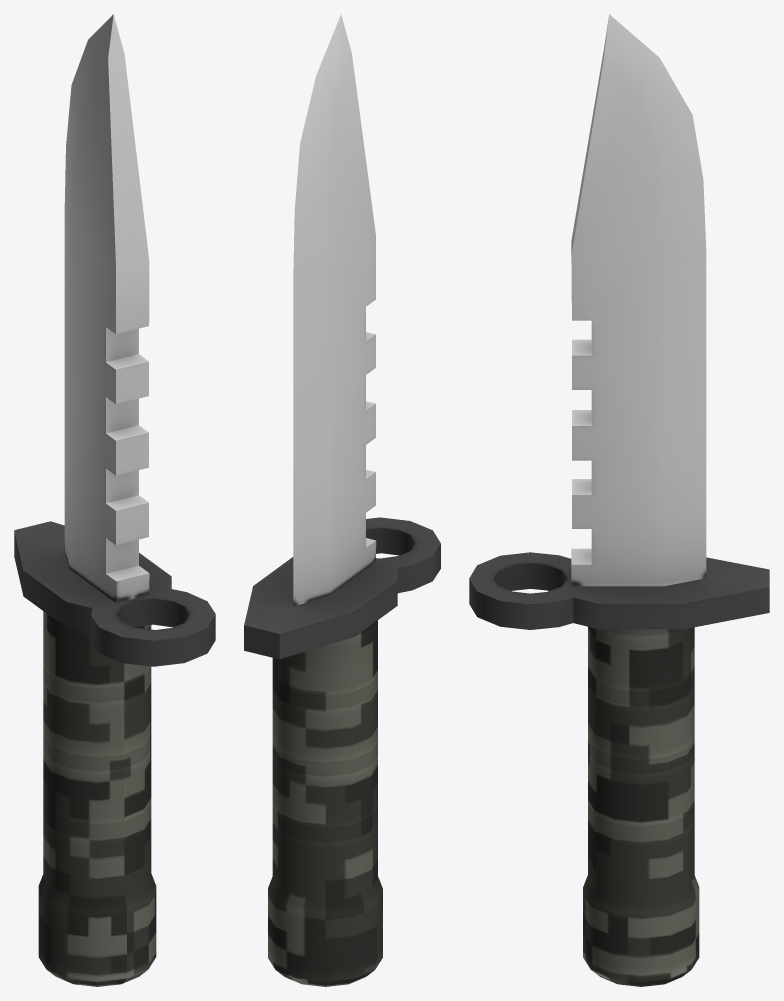
Rendered from MeleeWeaponAgent_Knife_07_Bayonet.fbx.
The picture shows the model from 3 angles, left to right: view 1: azimuth 30°, elevation 25°; view 2: azimuth 150°, elevation 25°; view 3: azimuth 270°, elevation 25°; orthographic projection. The views are drawn at different scales.
Parts seen in each view (by area): view 1: SM_Ammunition_Knife; view 2: SM_Ammunition_Knife; view 3: SM_Ammunition_Knife.
Boxes of the visible parts, x1,y1,x2,y2 form: SM_Ammunition_Knife: [14, 14, 215, 986]; SM_Ammunition_Knife: [244, 14, 440, 986]; SM_Ammunition_Knife: [469, 14, 769, 986].
Size of the model in its own units: 0.0977 by 0.8354 by 0.2387.
